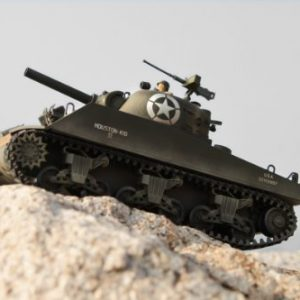Battle Tank: (8, 73, 300, 234)
